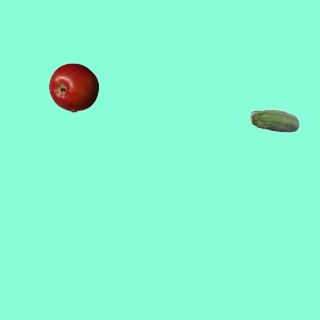Apple Braeburn: (48, 62, 98, 112)
Corn Husk: (249, 97, 299, 147)
